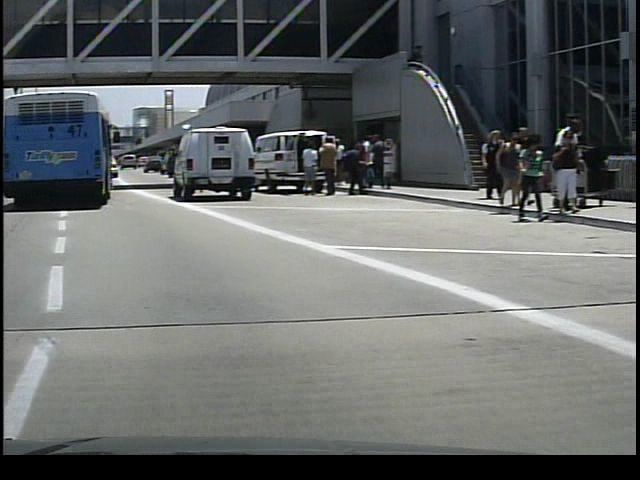person: (547, 118, 581, 217), (543, 127, 578, 218), (313, 135, 339, 198), (295, 134, 316, 194), (362, 132, 384, 189)
